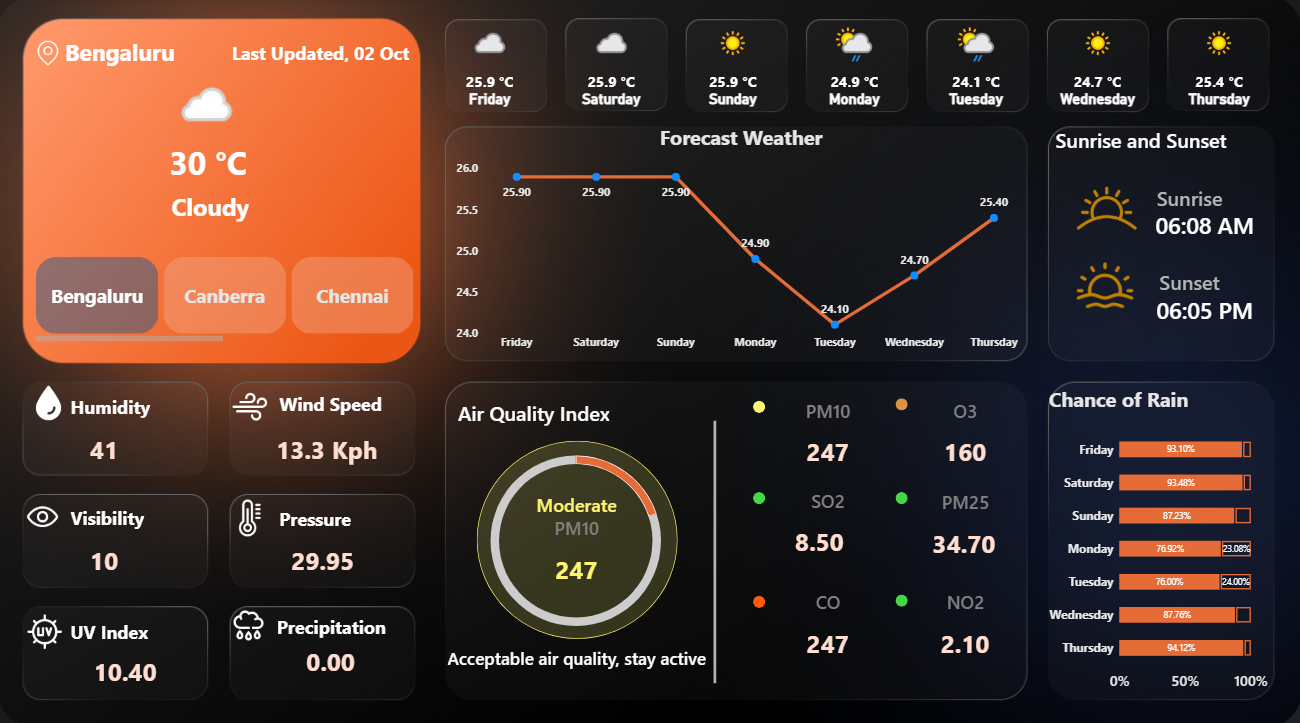

Layout of this report page (visuals, bound fields, positions):
{"tool":"powerbi","page":{"name":"Page 1","canvas":[1920,1080],"ordinal":0},"visuals":[{"type":"shape","box":[704,654,295.8,291.6],"z":0},{"type":"shape","box":[143.3,271.6,337.9,70.6],"z":1000},{"type":"shape","box":[51.5,46,255.8,69.9],"z":2000},{"type":"shape","box":[258,46,348,70],"z":3000},{"type":"image","box":[52,64,44,36],"z":4000},{"type":"cardVisual","fields":{"Data":["Min(Current.current.condition.icon)"]},"box":[183.9,0,246.6,211.7],"z":5000},{"type":"image","box":[28,738,76,54],"z":6000},{"type":"shape","box":[106,730,264,70],"z":7000},{"type":"image","box":[36,570,75,54],"z":8000},{"type":"image","box":[334,576,75,54],"z":9000},{"type":"image","box":[36,908,64,54],"z":10000},{"type":"image","box":[332,898,75,54],"z":11000},{"type":"image","box":[334,740,75,54],"z":12000},{"type":"shape","box":[414,732,264,70],"z":13000},{"type":"shape","box":[414,564,264,70],"z":14000},{"type":"shape","box":[106,898,264,70],"z":15000},{"type":"shape","box":[106,566,264,70],"z":16000},{"type":"shape","box":[410,890,264,70],"z":17000},{"type":"cardVisual","fields":{"Data":["Sum(Current.current.humidity)"]},"box":[120,624,144,82],"z":18000},{"type":"cardVisual","fields":{"Data":["_Measures.Wind_Speed"]},"box":[393.9,623.9,211.7,82.8],"z":19000},{"type":"cardVisual","fields":{"Data":["Sum(Current.current.uv)"]},"box":[126,952,130,82],"z":20000},{"type":"cardVisual","fields":{"Data":["Sum(Current.current.vis_km)"]},"box":[120,788,130,82],"z":21000},{"type":"cardVisual","fields":{"Data":["Sum(Current.current.pressure_in)"]},"box":[416,788,130,82],"z":22000},{"type":"cardVisual","fields":{"Data":["Sum(Current.current.precip_in)"]},"box":[438,936,130,82],"z":23000},{"type":"shape","box":[226.7,192.5,165.6,99.4],"z":24000},{"type":"advancedSlicerVisual","fields":{"Values":["Forecast_Day.Day_Name"]},"box":[639.4,29.9,1246,141.7],"z":25000},{"type":"advancedSlicerVisual","fields":{"Values":["Locations.location.name"]},"box":[55.6,382.8,556,126.2],"z":26000},{"type":"lineChart","title":"Forecast Weather","fields":{"Category":["Forecast_Day.Day_Name"],"Y":["Sum(Forecast_Day.forecast.forecastday.day.avgtemp_c)"]},"box":[658.7,171.1,870.4,370],"z":27000},{"type":"shape","box":[1556.9,175.4,275.9,70.6],"z":28000},{"type":"shape","box":[1668.1,284.4,218.1,98.4],"z":29000},{"type":"shape","box":[1668.1,410.6,218.1,98.4],"z":30000},{"type":"shape","box":[1644.6,370,218.1,96.2],"z":31000},{"type":"shape","box":[1644.6,245.9,218.1,98.4],"z":32000},{"type":"image","box":[1567.6,252.4,128.3,117.6],"z":33000},{"type":"image","box":[1589,382.8,83.4,83.4],"z":34000},{"type":"hundredPercentStackedBarChart","title":"Chance of Rain","fields":{"Category":["Forecast_Day.Day_Name"],"Y":["Current.Left_value_Rain","Sum(Forecast_Day.forecast.forecastday.day.avgvis_miles)"]},"box":[1531.5,558.2,355.4,485.7],"z":35000},{"type":"shape","box":[677.3,576.9,275.9,70.6],"z":36000},{"type":"cardVisual","title":"PM10","fields":{"Data":["Sum(Current.current.air_quality.co)"]},"box":[1157.7,590.8,128.8,104.9],"z":37000},{"type":"textbox","box":[34,116,150,150],"z":38000},{"type":"textbox","box":[431,116,175,150],"z":39000},{"type":"textbox","box":[1489,624,150,150],"z":40000},{"type":"cardVisual","title":"O3","fields":{"Data":["Sum(Current.current.air_quality.o3)"]},"box":[1360.1,590.8,128.8,104.9],"z":41000},{"type":"cardVisual","title":"SO2","fields":{"Data":["Sum(Current.current.air_quality.so2)"]},"box":[1157.7,723.3,128.8,104.9],"z":42000},{"type":"cardVisual","title":"PM25","fields":{"Data":["Sum(Current.current.air_quality.pm2_5)"]},"box":[1360.1,725.2,128.8,104.9],"z":43000},{"type":"cardVisual","title":"CO","fields":{"Data":["Sum(Current.current.air_quality.co)"]},"box":[1157.7,872.4,128.8,104.9],"z":44000},{"type":"cardVisual","title":"NO2","fields":{"Data":["Sum(Current.current.air_quality.no2)"]},"box":[1360.1,872.4,128.8,104.9],"z":45000},{"type":"textbox","box":[1466,624,150,150],"z":46000},{"type":"shape","box":[1111.7,594.5,18,18],"z":47000},{"type":"shape","box":[1111.7,881.6,18,18],"z":48000},{"type":"shape","box":[1111.7,728.8,18,18],"z":49000},{"type":"shape","box":[1321.5,590.8,18,18],"z":50000},{"type":"shape","box":[1321.5,879.8,18,18],"z":51000},{"type":"shape","box":[1321.5,728.8,18,18],"z":52000},{"type":"shape","box":[981,623.9,149.1,386.5],"z":53000},{"type":"cardVisual","title":"PM10","fields":{"Data":["Sum(Current.current.air_quality.co)"]},"box":[787.3,764.4,128.8,104.9],"z":54000},{"type":"donutChart","title":"PM10","fields":{"Y":["Sum(Current.current.air_quality.pm10)","_Measures.Left_value_PM10"]},"box":[649.9,629,402,343.7],"z":55000},{"type":"cardVisual","title":"PM10","fields":{"Data":["_Measures.AQI_StatusAQI Status Text"]},"box":[732.5,695.7,239.3,103.1],"z":56000},{"type":"shape","box":[658.9,938.7,386.5,69.9],"z":57000}]}

Visuals, with their boxes in screenshot pixels (x1, y1, x2, y2), scaled from the page's 1920x1080 canvas onto the 1300x723 screenshot:
shape: bbox=[477, 438, 677, 633]
shape: bbox=[97, 182, 326, 229]
shape: bbox=[35, 31, 208, 78]
shape: bbox=[175, 31, 410, 78]
image: bbox=[35, 43, 65, 67]
cardVisual - Min(Current.current.condition.icon): bbox=[125, 0, 291, 142]
image: bbox=[19, 494, 70, 530]
shape: bbox=[72, 489, 251, 536]
image: bbox=[24, 382, 75, 418]
image: bbox=[226, 386, 277, 422]
image: bbox=[24, 608, 68, 644]
image: bbox=[225, 601, 276, 637]
image: bbox=[226, 495, 277, 532]
shape: bbox=[280, 490, 459, 537]
shape: bbox=[280, 378, 459, 424]
shape: bbox=[72, 601, 251, 648]
shape: bbox=[72, 379, 251, 426]
shape: bbox=[278, 596, 456, 643]
cardVisual - Sum(Current.current.humidity): bbox=[81, 418, 179, 473]
cardVisual - _Measures.Wind_Speed: bbox=[267, 418, 410, 473]
cardVisual - Sum(Current.current.uv): bbox=[85, 637, 173, 692]
cardVisual - Sum(Current.current.vis_km): bbox=[81, 528, 169, 582]
cardVisual - Sum(Current.current.pressure_in): bbox=[282, 528, 370, 582]
cardVisual - Sum(Current.current.precip_in): bbox=[297, 627, 385, 681]
shape: bbox=[153, 129, 266, 195]
advancedSlicerVisual - Forecast_Day.Day_Name: bbox=[433, 20, 1277, 115]
advancedSlicerVisual - Locations.location.name: bbox=[38, 256, 414, 341]
"Forecast Weather" lineChart: bbox=[446, 115, 1035, 362]
shape: bbox=[1054, 117, 1241, 165]
shape: bbox=[1129, 190, 1277, 256]
shape: bbox=[1129, 275, 1277, 341]
shape: bbox=[1114, 248, 1261, 312]
shape: bbox=[1114, 165, 1261, 230]
image: bbox=[1061, 169, 1148, 248]
image: bbox=[1076, 256, 1132, 312]
"Chance of Rain" hundredPercentStackedBarChart: bbox=[1037, 374, 1278, 699]
shape: bbox=[459, 386, 645, 433]
"PM10" cardVisual: bbox=[784, 396, 871, 466]
textbox: bbox=[23, 78, 125, 178]
textbox: bbox=[292, 78, 410, 178]
textbox: bbox=[1008, 418, 1110, 518]
"O3" cardVisual: bbox=[921, 396, 1008, 466]
"SO2" cardVisual: bbox=[784, 484, 871, 554]
"PM25" cardVisual: bbox=[921, 485, 1008, 556]
"CO" cardVisual: bbox=[784, 584, 871, 654]
"NO2" cardVisual: bbox=[921, 584, 1008, 654]
textbox: bbox=[993, 418, 1094, 518]
shape: bbox=[753, 398, 765, 410]
shape: bbox=[753, 590, 765, 602]
shape: bbox=[753, 488, 765, 500]
shape: bbox=[895, 396, 907, 408]
shape: bbox=[895, 589, 907, 601]
shape: bbox=[895, 488, 907, 500]
shape: bbox=[664, 418, 765, 676]
"PM10" cardVisual: bbox=[533, 512, 620, 582]
"PM10" donutChart: bbox=[440, 421, 712, 651]
"PM10" cardVisual: bbox=[496, 466, 658, 535]
shape: bbox=[446, 628, 708, 675]
